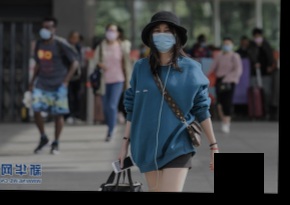with_mask: (150, 24, 177, 52), (37, 23, 52, 41), (104, 27, 119, 42), (219, 39, 232, 53), (252, 32, 262, 44)
